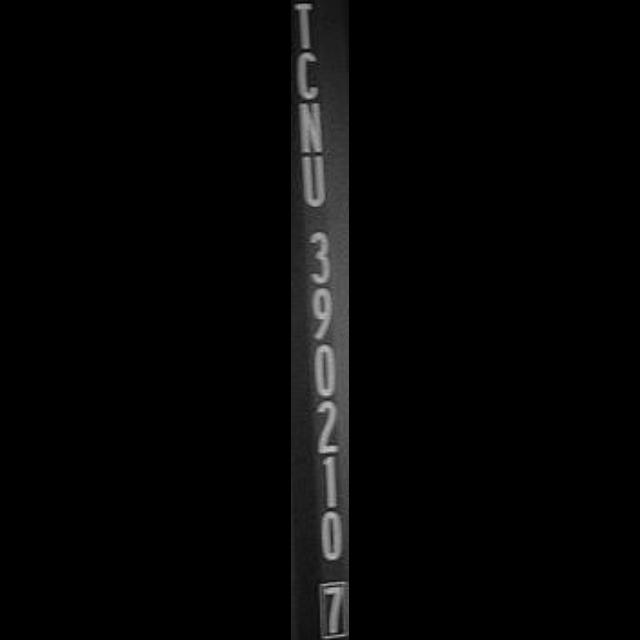0: (296, 338, 344, 398), (311, 508, 349, 558)
1: (311, 456, 349, 512)
2: (302, 396, 348, 460)
3: (292, 224, 342, 282)
7: (320, 576, 348, 640)
9: (296, 280, 342, 342)
c: (292, 49, 334, 102)
n: (292, 99, 334, 158)
t: (291, 0, 323, 50)
u: (292, 156, 334, 210)
